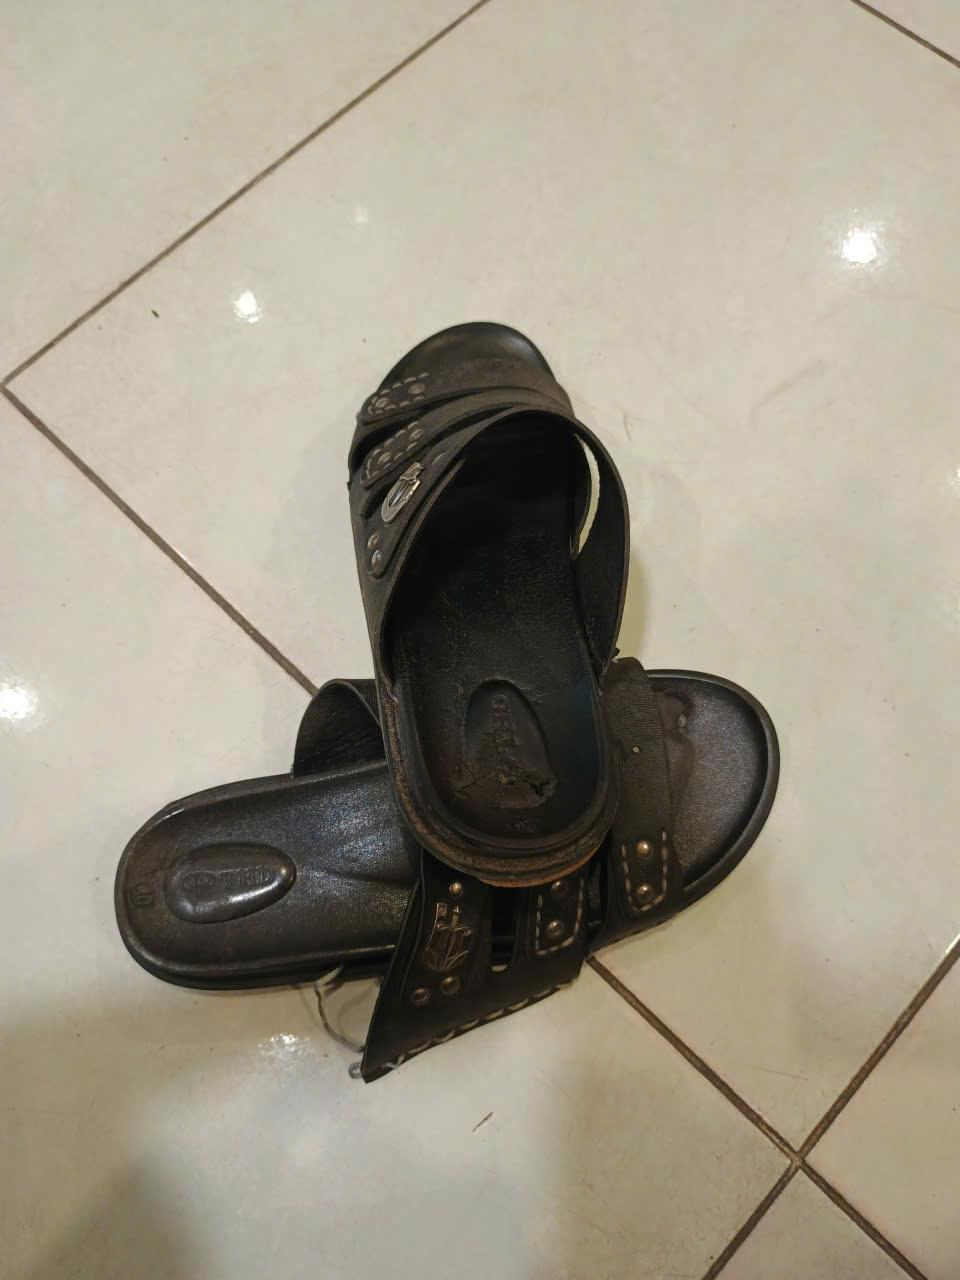Con lai: (110, 670, 782, 1089), (348, 318, 634, 883)
